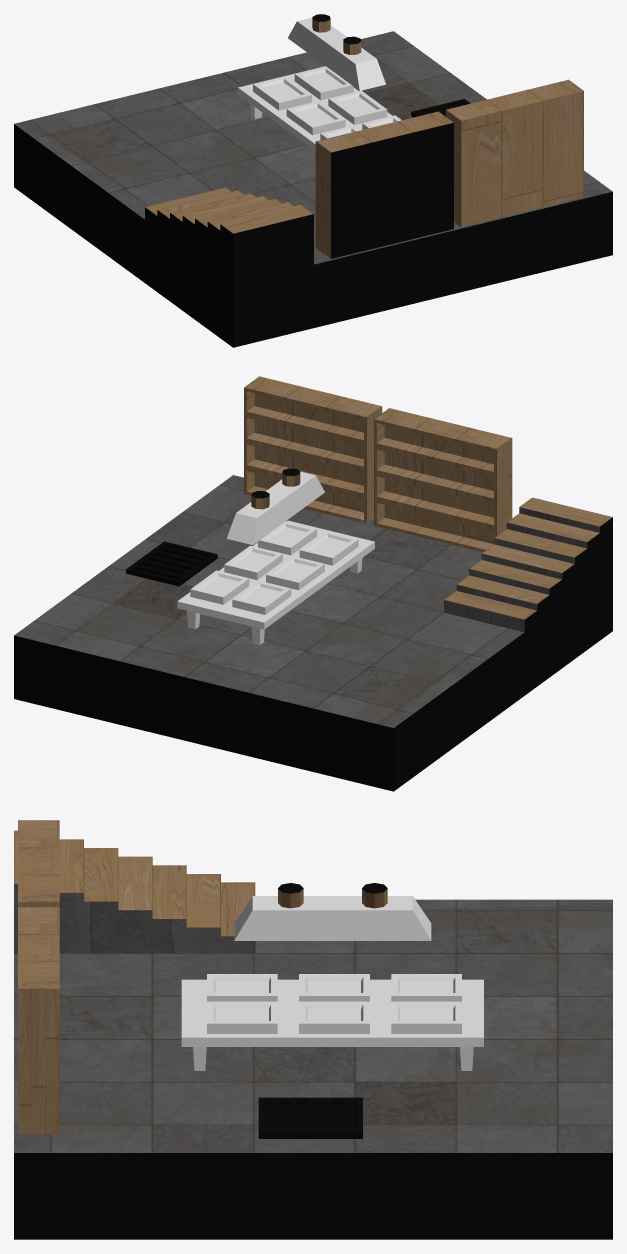
Rendered from CoffeeshopBasement.fbx.
3 views of the same model, one above another, from view 1: azimuth 30°, elevation 25°; view 2: azimuth 150°, elevation 25°; view 3: azimuth 270°, elevation 25° (orthographic). The views are drawn at different scales.
Parts seen in each view (by area): view 1: Plane.004, Plane.005, Cube.016, Cube.017, Cube.028, Cube.029, Cube.027, Cube.030; view 2: Plane.004, Plane.005, Cube.016, Cube.017, Cube.028, Cube.027, Cube.029, Cube.026, Cube.030; view 3: Plane.004, Plane.005, Cube.028, Cube.027, Cube.017, Cube.029, Cube.026, Cube.016, Cube.030.
Part boxes in pixels (x1,y1,x2,y2): Plane.004: (14,31,612,327); Plane.005: (119,187,313,347); Cube.016: (315,111,453,258); Cube.017: (445,79,583,227); Cube.028: (253,66,401,140); Cube.029: (288,17,385,90); Cube.027: (238,66,392,150); Cube.030: (312,14,361,54); Plane.004: (14,475,523,791); Plane.005: (444,497,612,713); Cube.016: (374,408,512,552); Cube.017: (244,376,382,523); Cube.028: (190,521,358,614); Cube.027: (177,520,374,644); Cube.029: (227,471,324,544); Cube.026: (126,541,217,586); Cube.030: (251,468,300,509); Plane.004: (14,899,612,1239); Plane.005: (14,830,255,953); Cube.028: (207,974,461,1033); Cube.027: (181,979,483,1070); Cube.017: (18,907,59,1134); Cube.029: (234,896,431,940); Cube.026: (258,1097,362,1138); Cube.016: (18,820,59,906); Cube.030: (278,883,387,908).
Bounding box in the file's own units: 618 × 279 × 618.
